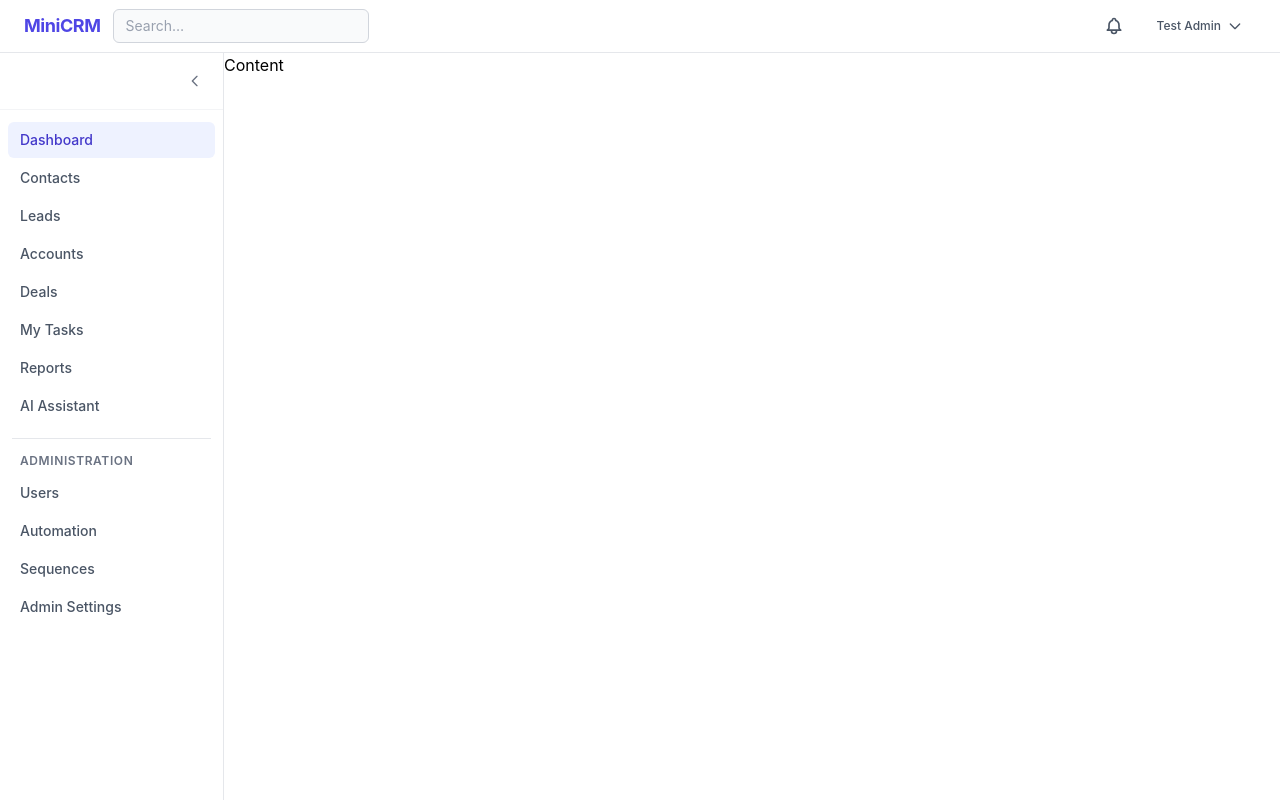
NavLeft › collapse toggle › clicking collapse toggle twice restores the nav link labels
The width and height of the screenshot is (1280, 800).
Step 1. Click the button with test id "nav-left-collapse-toggle" → {"x": 195, "y": 81}, box [179,65,211,97]
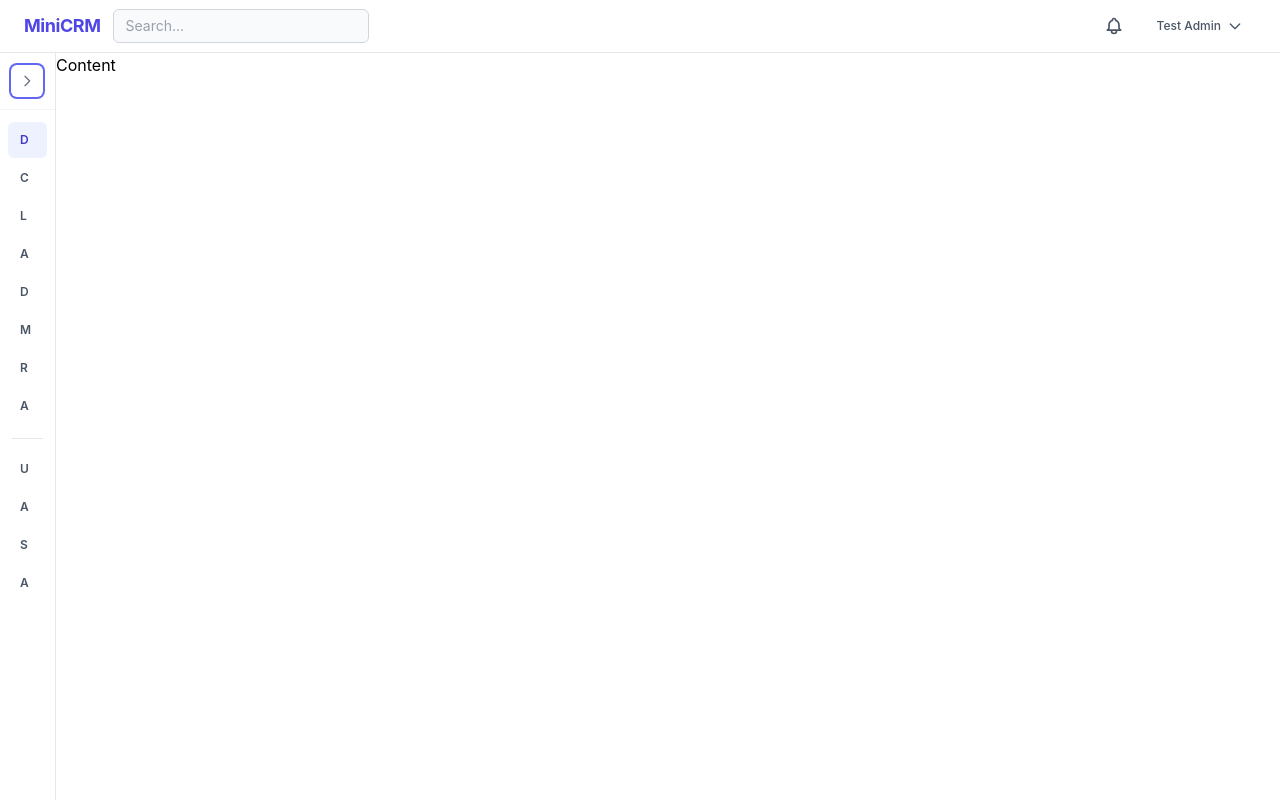
Step 2. Click the button with test id "nav-left-collapse-toggle" → {"x": 27, "y": 81}, box [11,65,43,97]
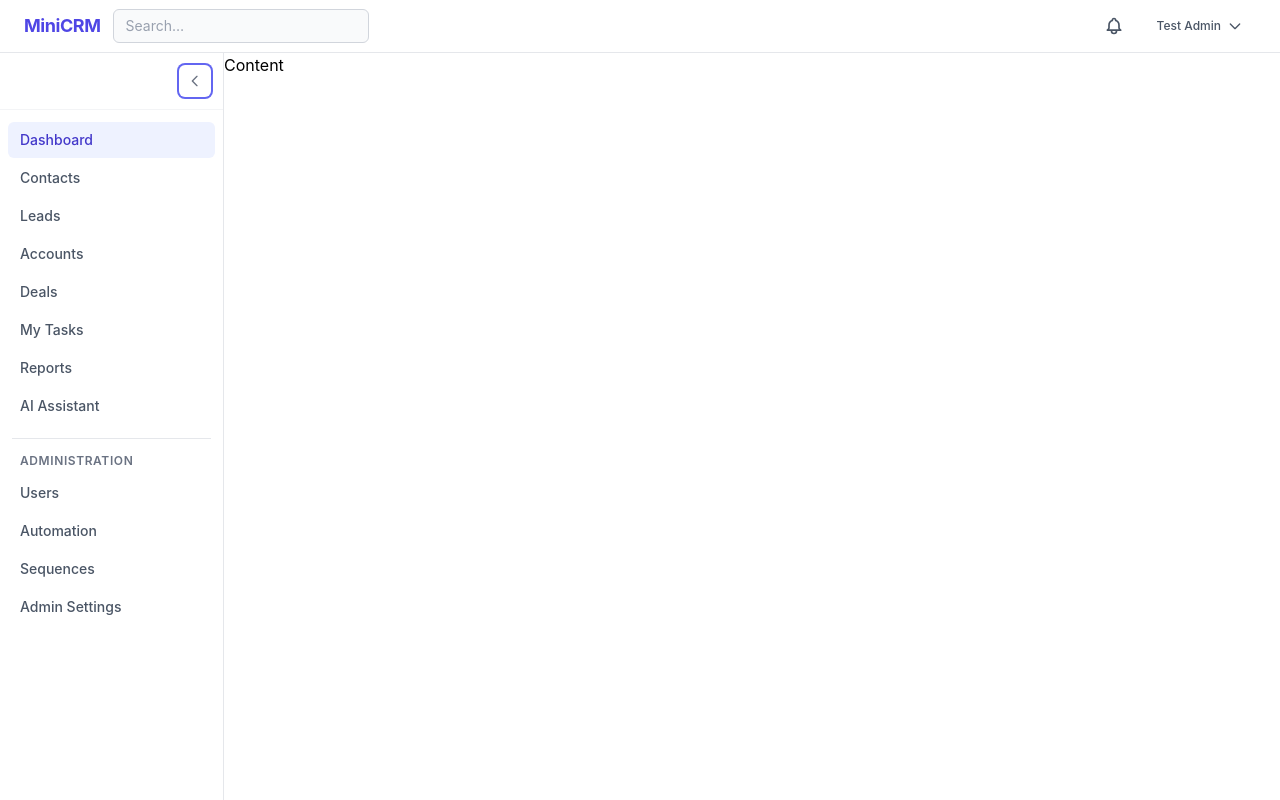
Now the link with test id "nav-left-contacts" reads "Contacts", box [20,169,80,186]
